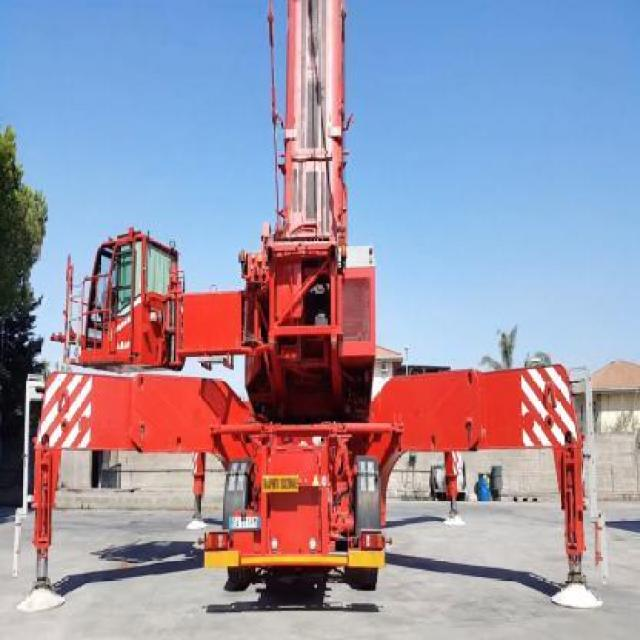Mobile Crane: (11, 0, 607, 614)
